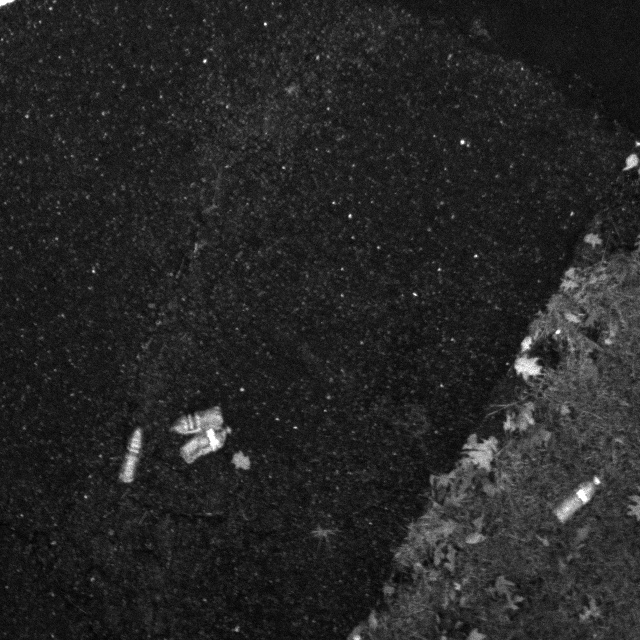bottle: (549, 474, 604, 524), (165, 402, 230, 439), (115, 424, 148, 491), (179, 429, 235, 466)
